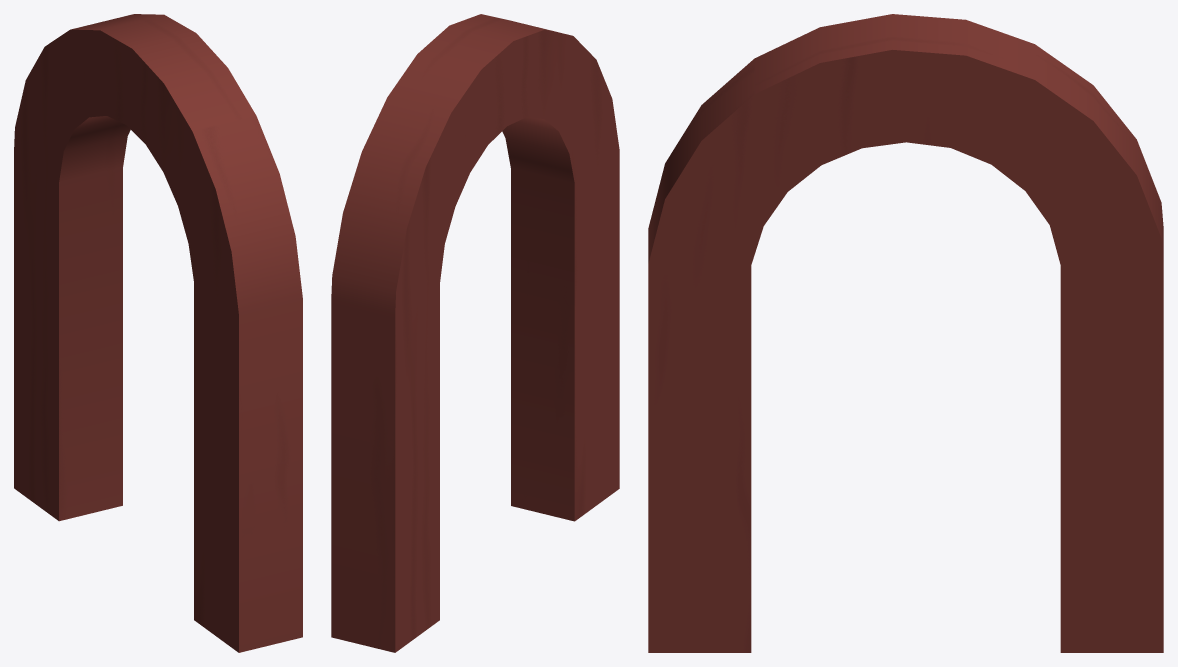
The model's file is kapi.fbx.
3 views of the same model, side by side, from view 1: azimuth 30°, elevation 25°; view 2: azimuth 150°, elevation 25°; view 3: azimuth 270°, elevation 25° (orthographic). The views are drawn at different scales.
Visible parts, largest first — view 1: kapi; view 2: kapi; view 3: kapi.
Part boxes in pixels (left/top/right/bottom): kapi: left=14, top=14, right=302, bottom=652; kapi: left=331, top=14, right=619, bottom=652; kapi: left=648, top=14, right=1163, bottom=652.
Bounding box in the file's own units: 540 × 4240 × 3284.
